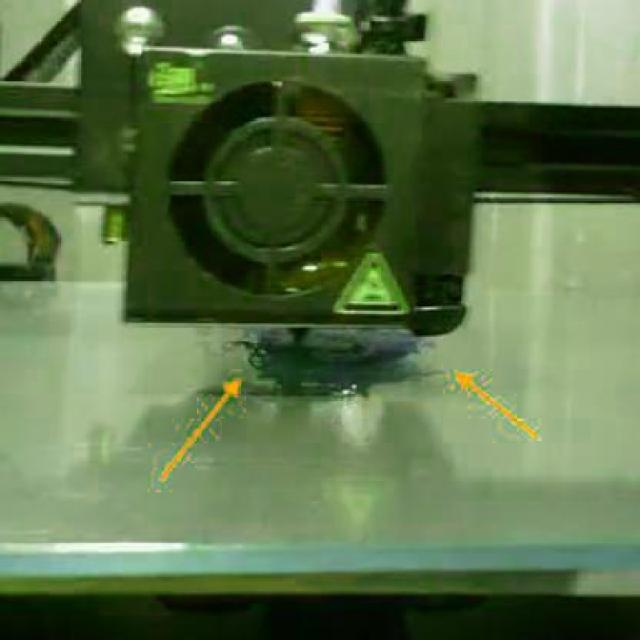Spaghetti: (222, 335, 267, 373), (410, 366, 448, 379)
